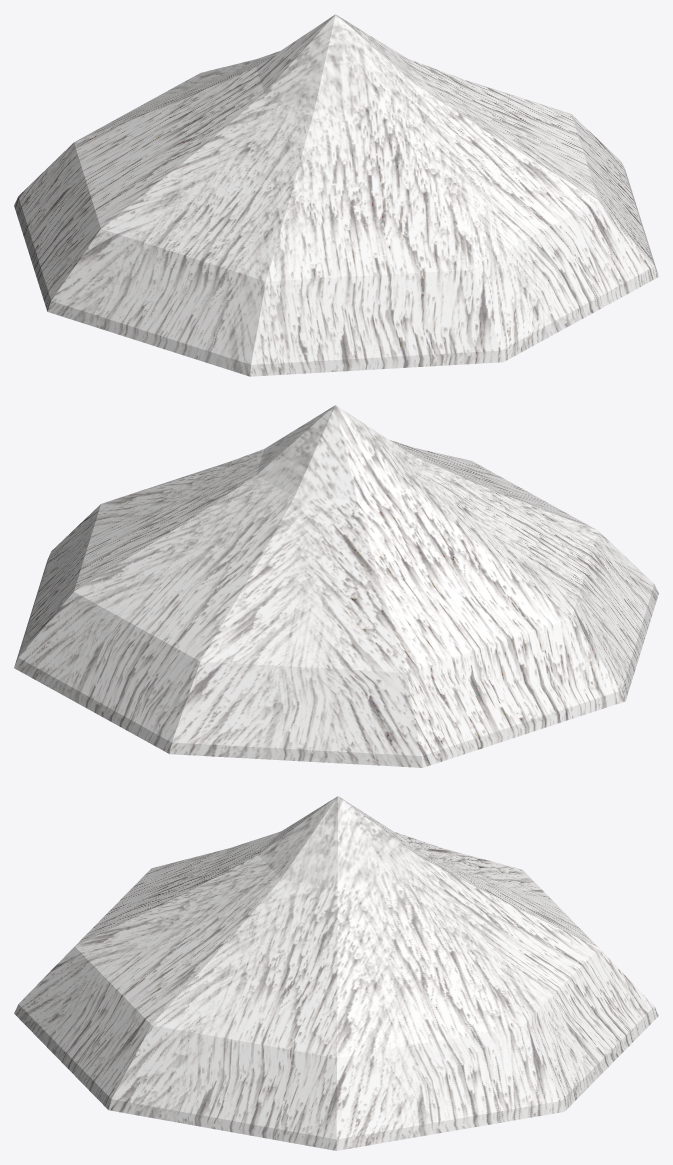
Rendered from ThatchRoof.fbx.
The picture shows the model from 3 angles, top to bottom: view 1: azimuth 30°, elevation 25°; view 2: azimuth 150°, elevation 25°; view 3: azimuth 270°, elevation 25°; orthographic projection. The views are drawn at different scales.
Visible parts, largest first — view 1: Cylinder (9); view 2: Cylinder (9); view 3: Cylinder (9).
Boxes of the visible parts, x1,y1,x2,y2 form: Cylinder (9): [14, 14, 658, 376]; Cylinder (9): [14, 405, 658, 767]; Cylinder (9): [14, 796, 658, 1150].
Bounding box in the file's own units: 22.7 × 8.66 × 22.7.
